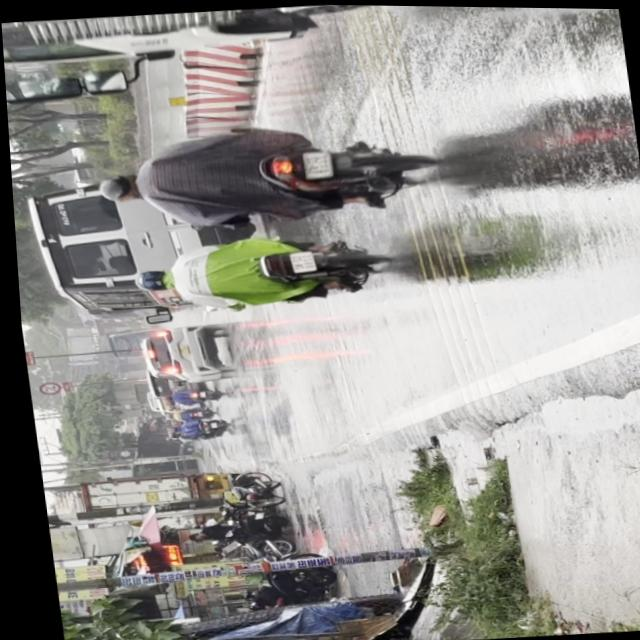helmet: (92, 171, 138, 202), (127, 265, 166, 290)
licenseplate: (83, 110, 446, 235), (121, 222, 396, 315)
nohelmet: (298, 147, 330, 176), (284, 248, 312, 270)
